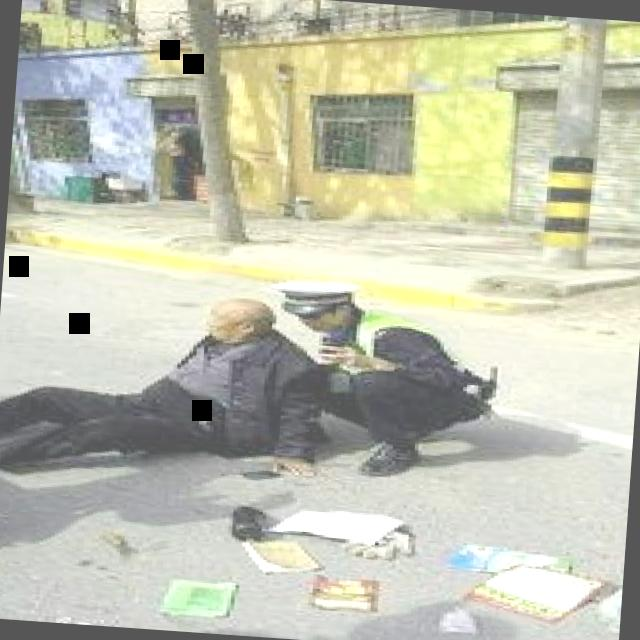Fall-Detected: (0, 262, 333, 511)
